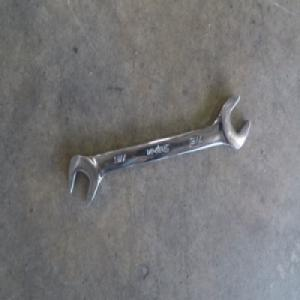Wrench: (69, 95, 249, 207)
